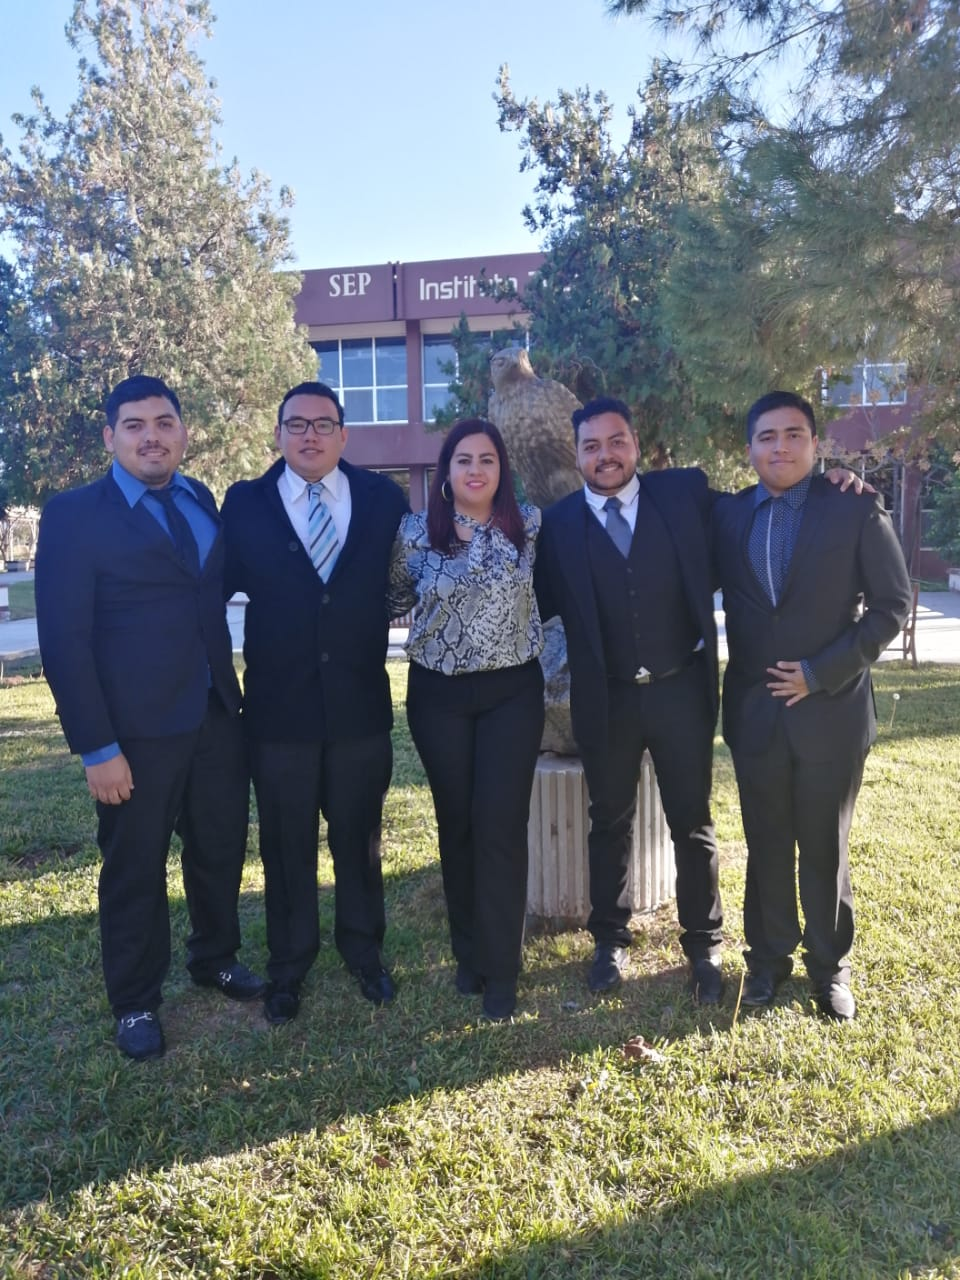Yoshi: (523, 370, 725, 822)
